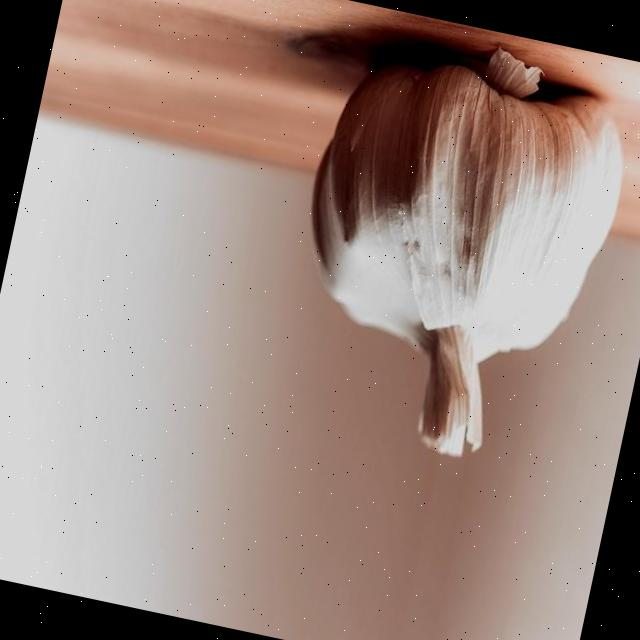garlic: (311, 50, 621, 454)
